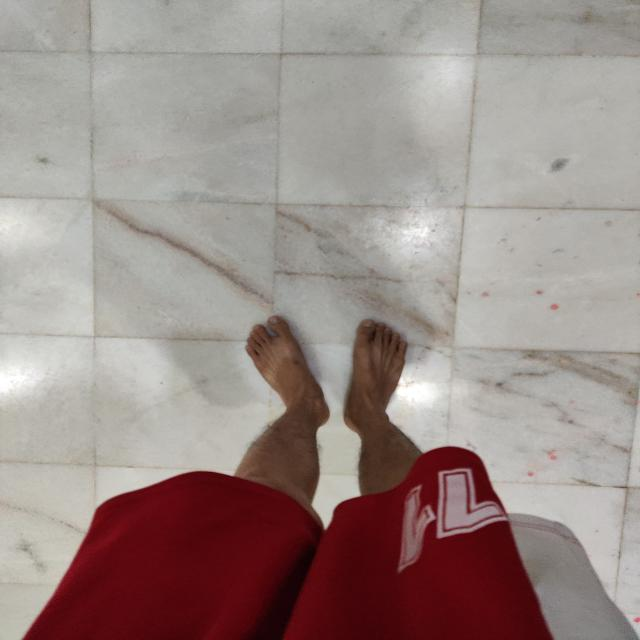No_Shoes: (231, 301, 323, 442), (343, 302, 432, 447)
